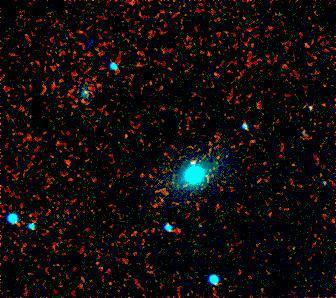star: (179, 147, 209, 177)
